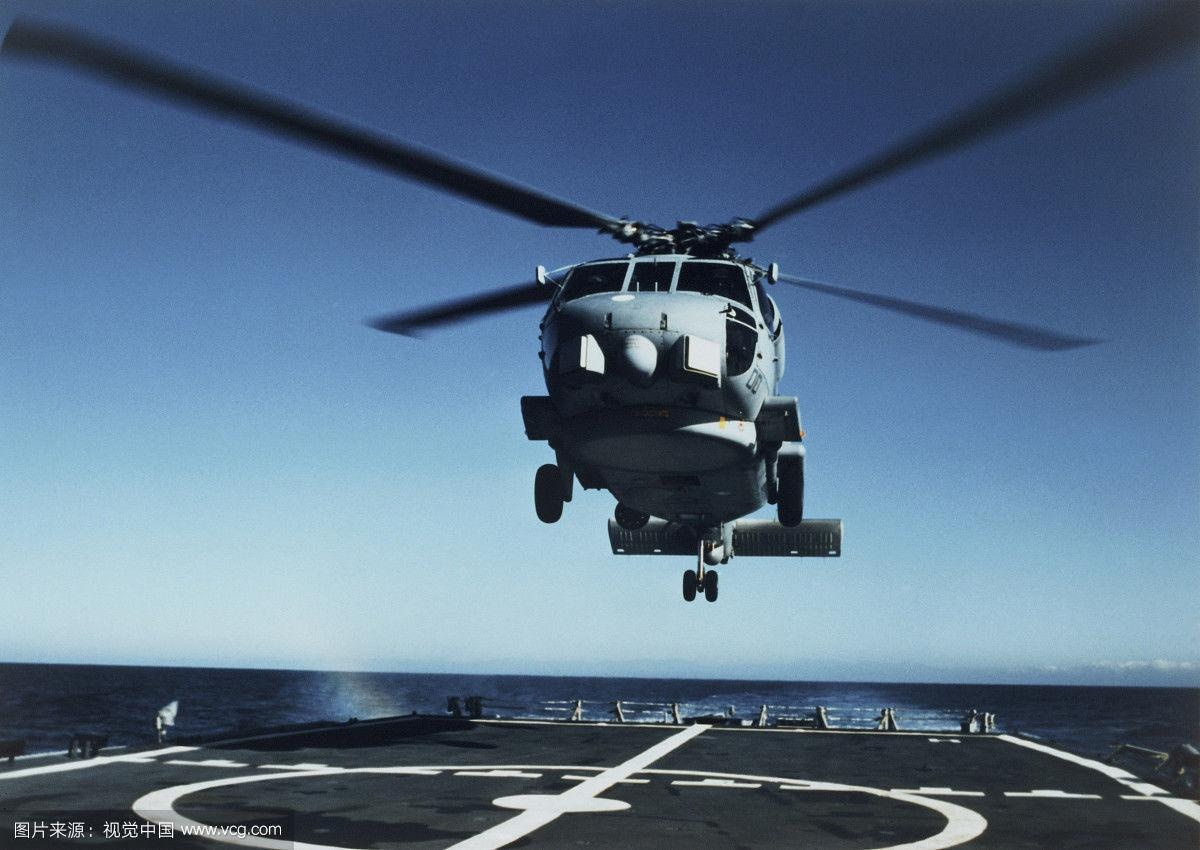airplane: (10, 1, 1200, 601)
